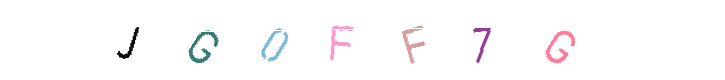0: (219, 0, 299, 80)
7: (418, 0, 498, 80)
F: (322, 0, 402, 80), (343, 0, 423, 80)
G: (158, 0, 238, 80), (454, 0, 534, 80)
J: (89, 0, 169, 80)
